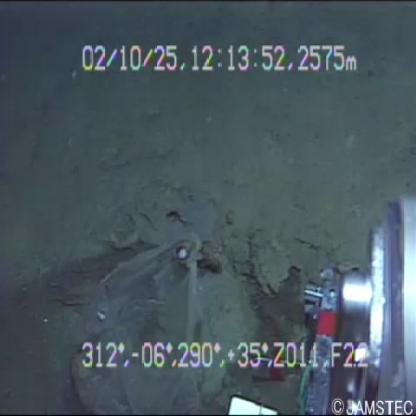Rov: (216, 158, 416, 413)
Rác: (52, 216, 224, 416)
